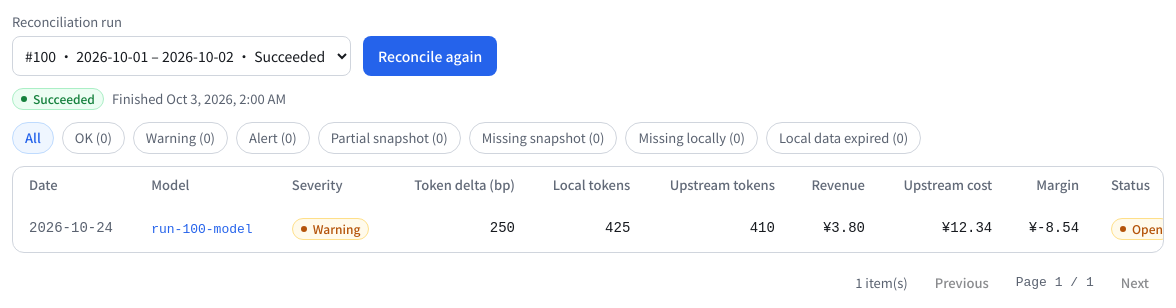
Scenario: reconciliation results tab › does not carry the previous run rows into a new run
Expected: the button "run-100-model" is shown, [151,220,253,240]
Step 1. Select "#200 · 2026-10-01 – 2026-10-02 · Succeeded" in the dropdown labelled "Reconciliation run" → (182, 56), box [12,36,351,76]
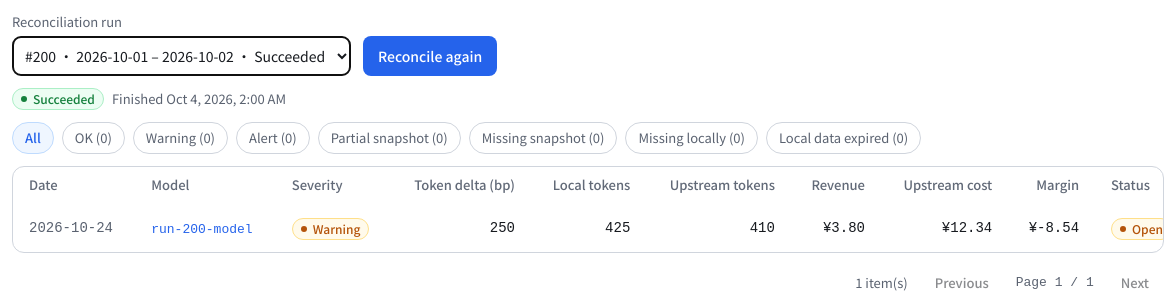
Expected: the button "run-200-model" is shown, [151,220,253,240]
Expected: the button "run-100-model" is gone
